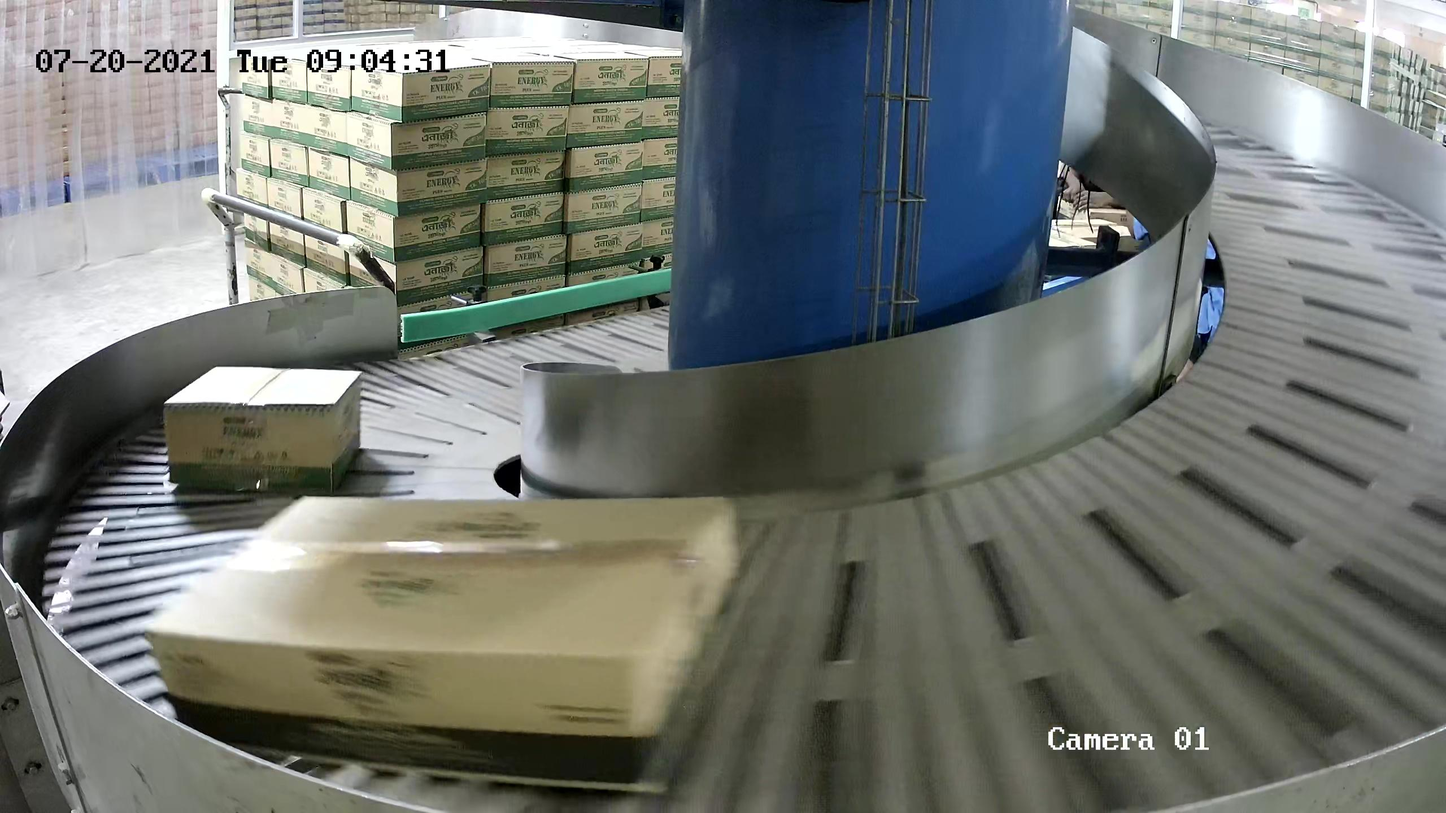Box: (140, 496, 748, 800), (163, 364, 362, 498)
